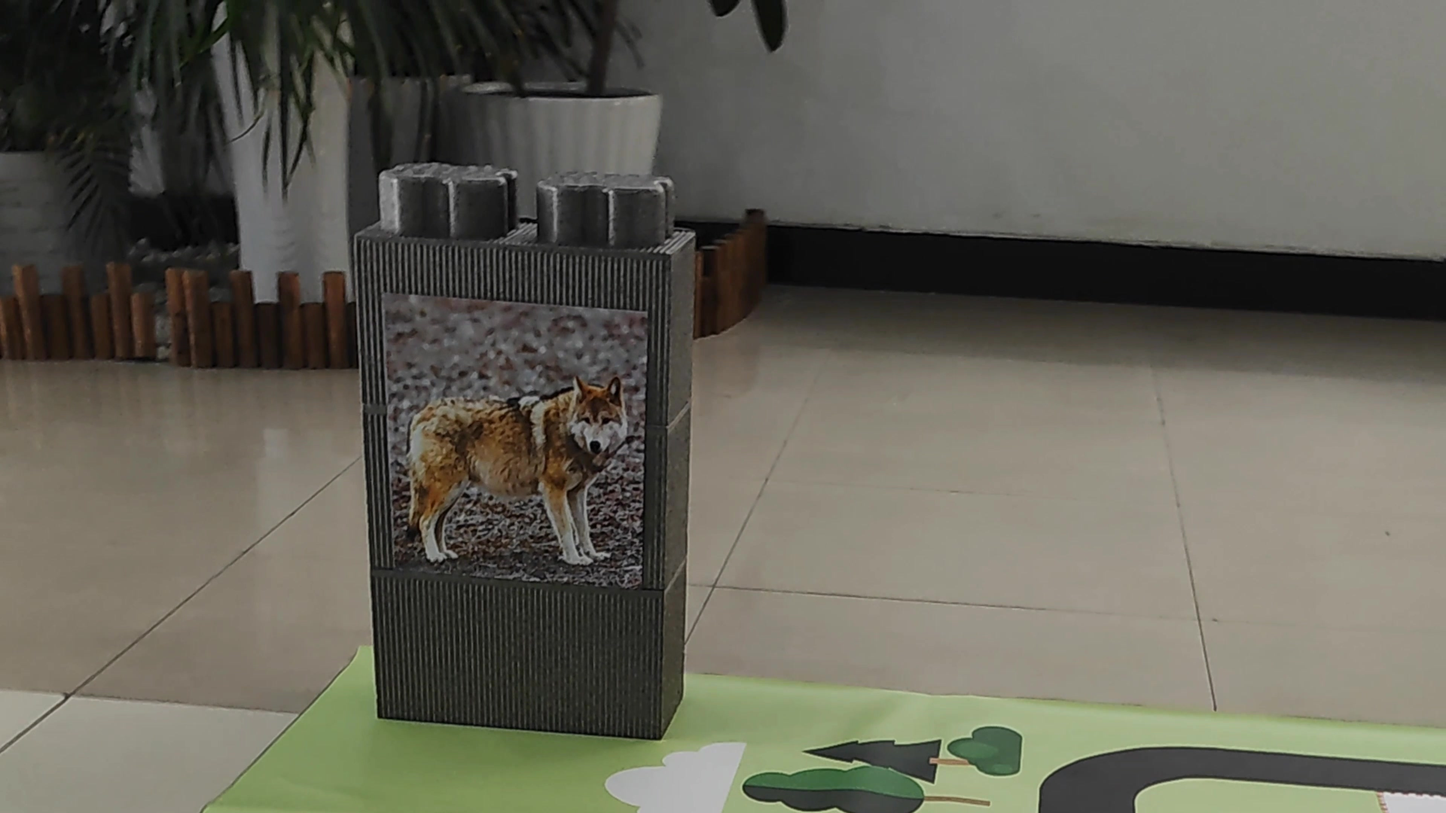wolf: (387, 295, 644, 574)
